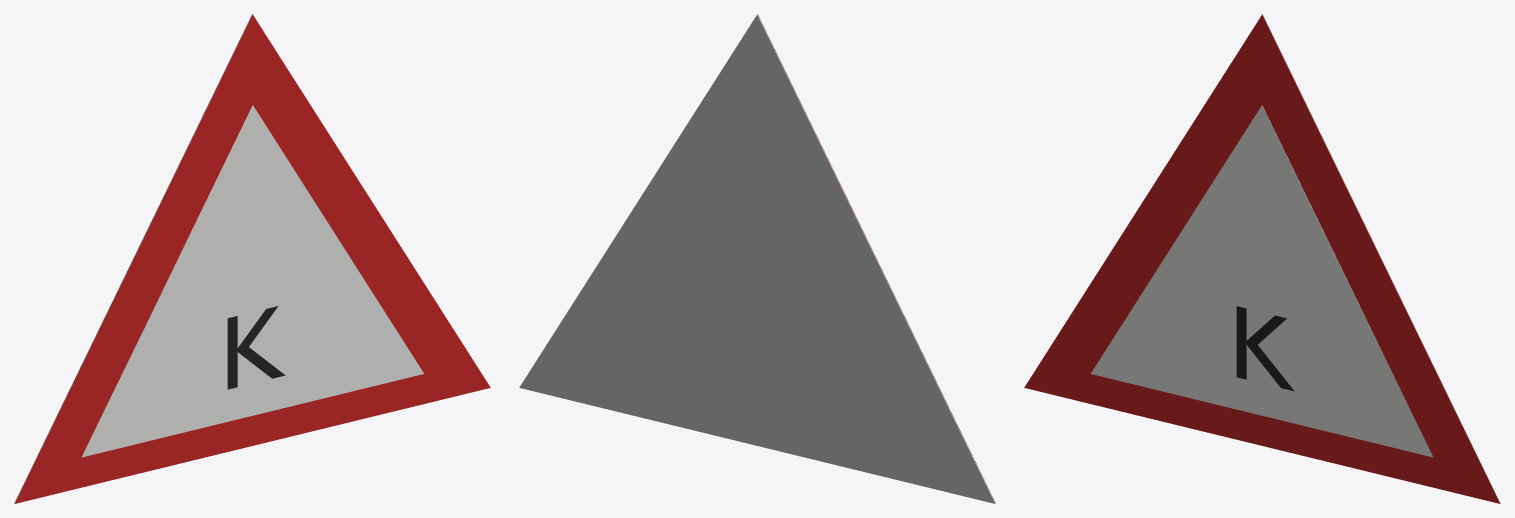
Rendered from triangle_de_presignalisation.glb.
3 views of the same model, side by side, from view 1: azimuth 30°, elevation 25°; view 2: azimuth 150°, elevation 25°; view 3: azimuth 330°, elevation 25° (orthographic).
Parts seen in each view (by area): view 1: triangle_de_presignalisation_int01, triangle_de_presignalisation_ext00, triangle_de_presignalisation_txt02, triangle_de_presignalisation_dos; view 2: triangle_de_presignalisation_dos; view 3: triangle_de_presignalisation_int01, triangle_de_presignalisation_ext00, triangle_de_presignalisation_txt02, triangle_de_presignalisation_dos.
Part boxes in pixels (x1,y1,x2,y2): triangle_de_presignalisation_int01: (82, 105, 423, 457); triangle_de_presignalisation_ext00: (15, 14, 490, 503); triangle_de_presignalisation_txt02: (227, 306, 285, 389); triangle_de_presignalisation_dos: (14, 14, 252, 503); triangle_de_presignalisation_dos: (519, 14, 995, 503); triangle_de_presignalisation_int01: (1091, 105, 1432, 457); triangle_de_presignalisation_ext00: (1024, 14, 1499, 503); triangle_de_presignalisation_txt02: (1236, 306, 1294, 391); triangle_de_presignalisation_dos: (1262, 14, 1500, 503).
Size of the model in its own units: 0.7 by 0.6062 by 0.0025.
